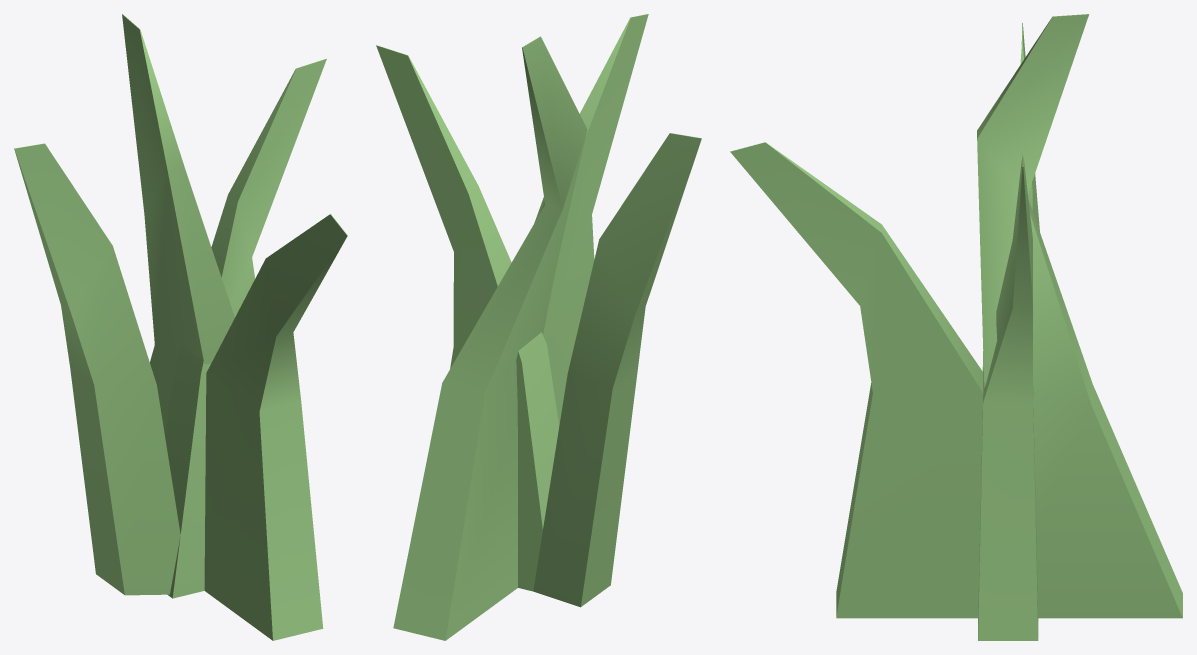
Rendered from grass3.fbx.
3 renders of one model, left to right at view 1: azimuth 30°, elevation 25°; view 2: azimuth 150°, elevation 25°; view 3: azimuth 270°, elevation 25°, orthographic. The views are drawn at different scales.
Parts seen in each view (by area): view 1: pCube48; view 2: pCube48; view 3: pCube48.
Boxes of the visible parts, x1,y1,x2,y2 form: pCube48: [14, 14, 347, 640]; pCube48: [376, 14, 701, 640]; pCube48: [730, 14, 1182, 640].
Bounding box in the file's own units: 1.52 × 2.53 × 1.84.
